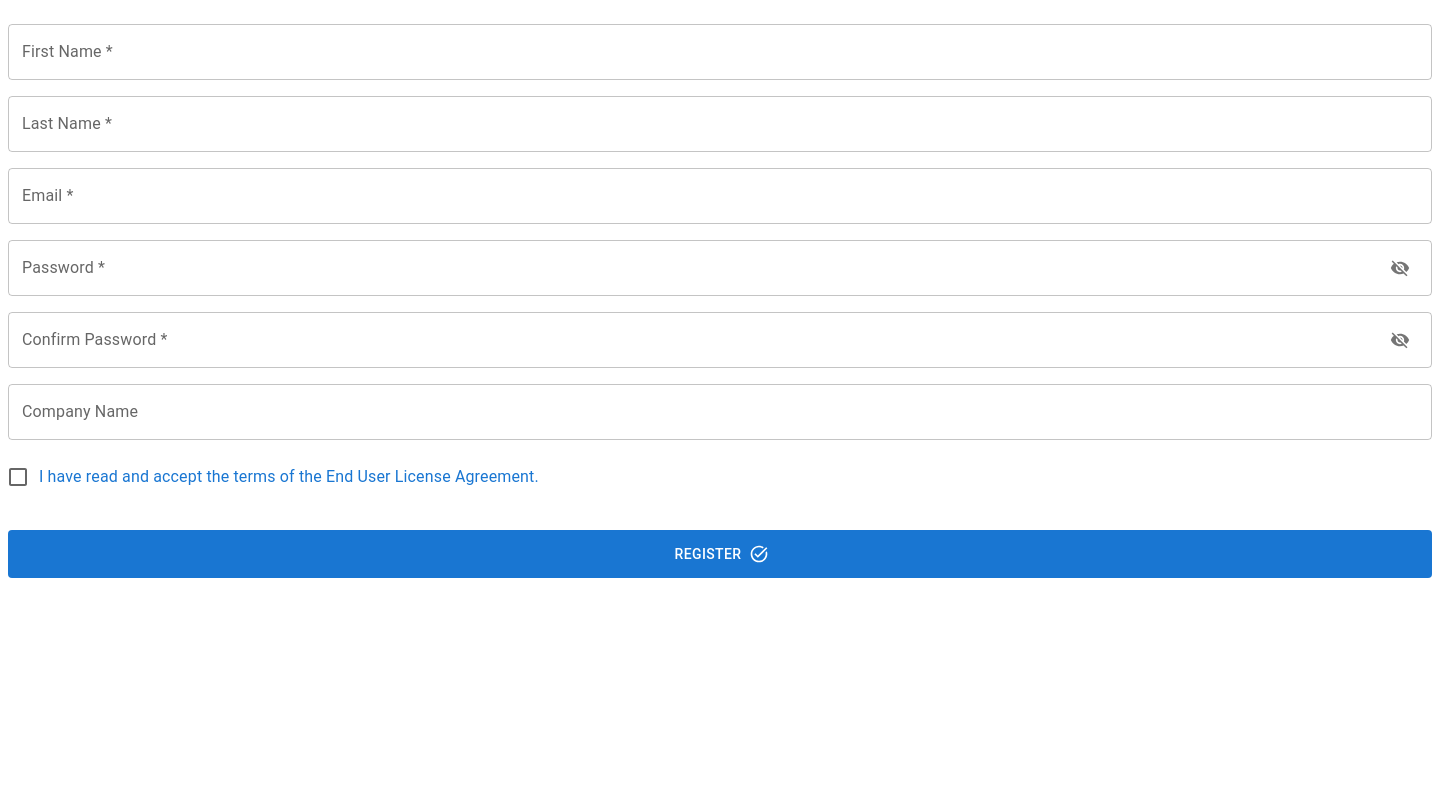
Test: RegisterForm (TS-11) › blocks submit when all required fields are empty and surfaces every required-field error
Click the button "Register" at (720, 554), box left=8, top=530, right=1432, bottom=578
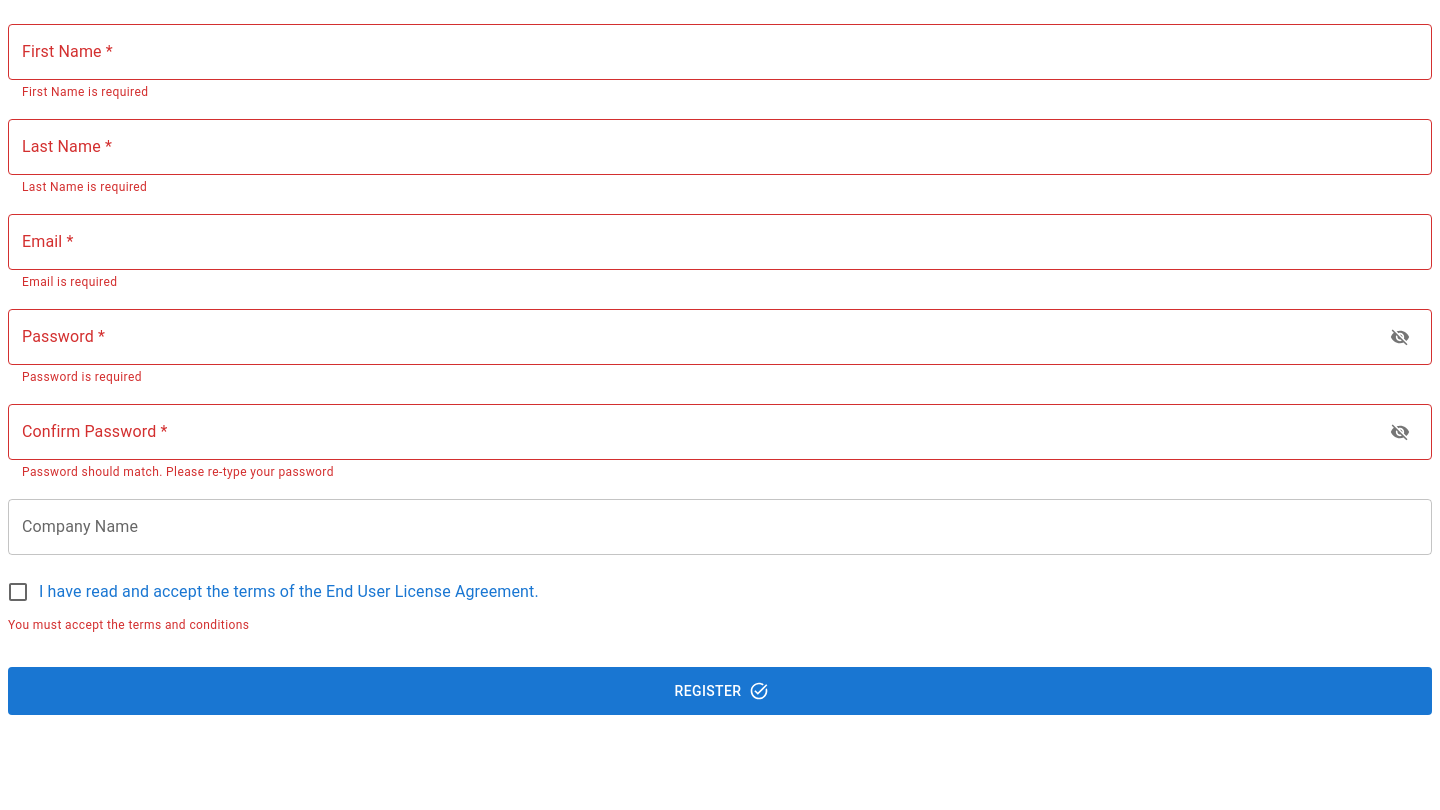
Expected: the text "First Name is required" is shown, left=22, top=85, right=148, bottom=99
Expected: the text "Last Name is required" is shown, left=22, top=180, right=147, bottom=194
Expected: the text "Email is required" is shown, left=22, top=275, right=117, bottom=289
